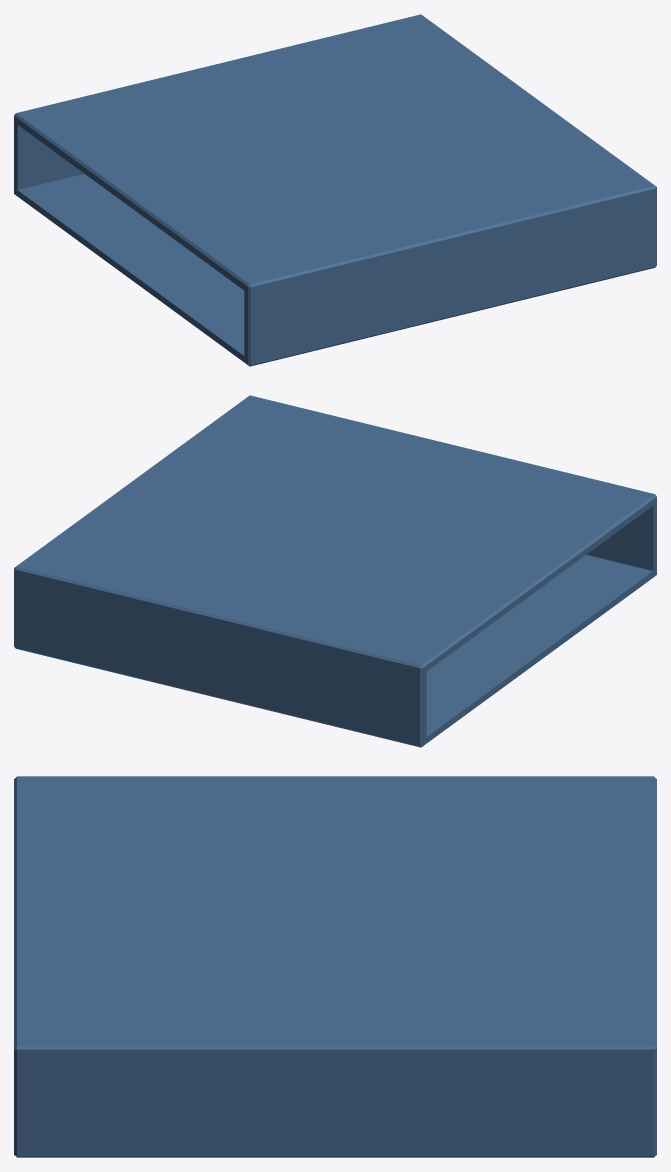
The model's file is caixa1.fbx.
The picture shows the model from 3 angles, top to bottom: view 1: azimuth 30°, elevation 25°; view 2: azimuth 150°, elevation 25°; view 3: azimuth 270°, elevation 25°; orthographic projection. The views are drawn at different scales.
Parts seen in each view (by area): view 1: caixa1; view 2: caixa1; view 3: caixa1.
Boxes of the visible parts, x1,y1,x2,y2 form: caixa1: (14, 14, 656, 366); caixa1: (14, 395, 656, 747); caixa1: (14, 776, 656, 1157).
Size of the model in its own units: 65.65 by 12.62 by 65.65.
